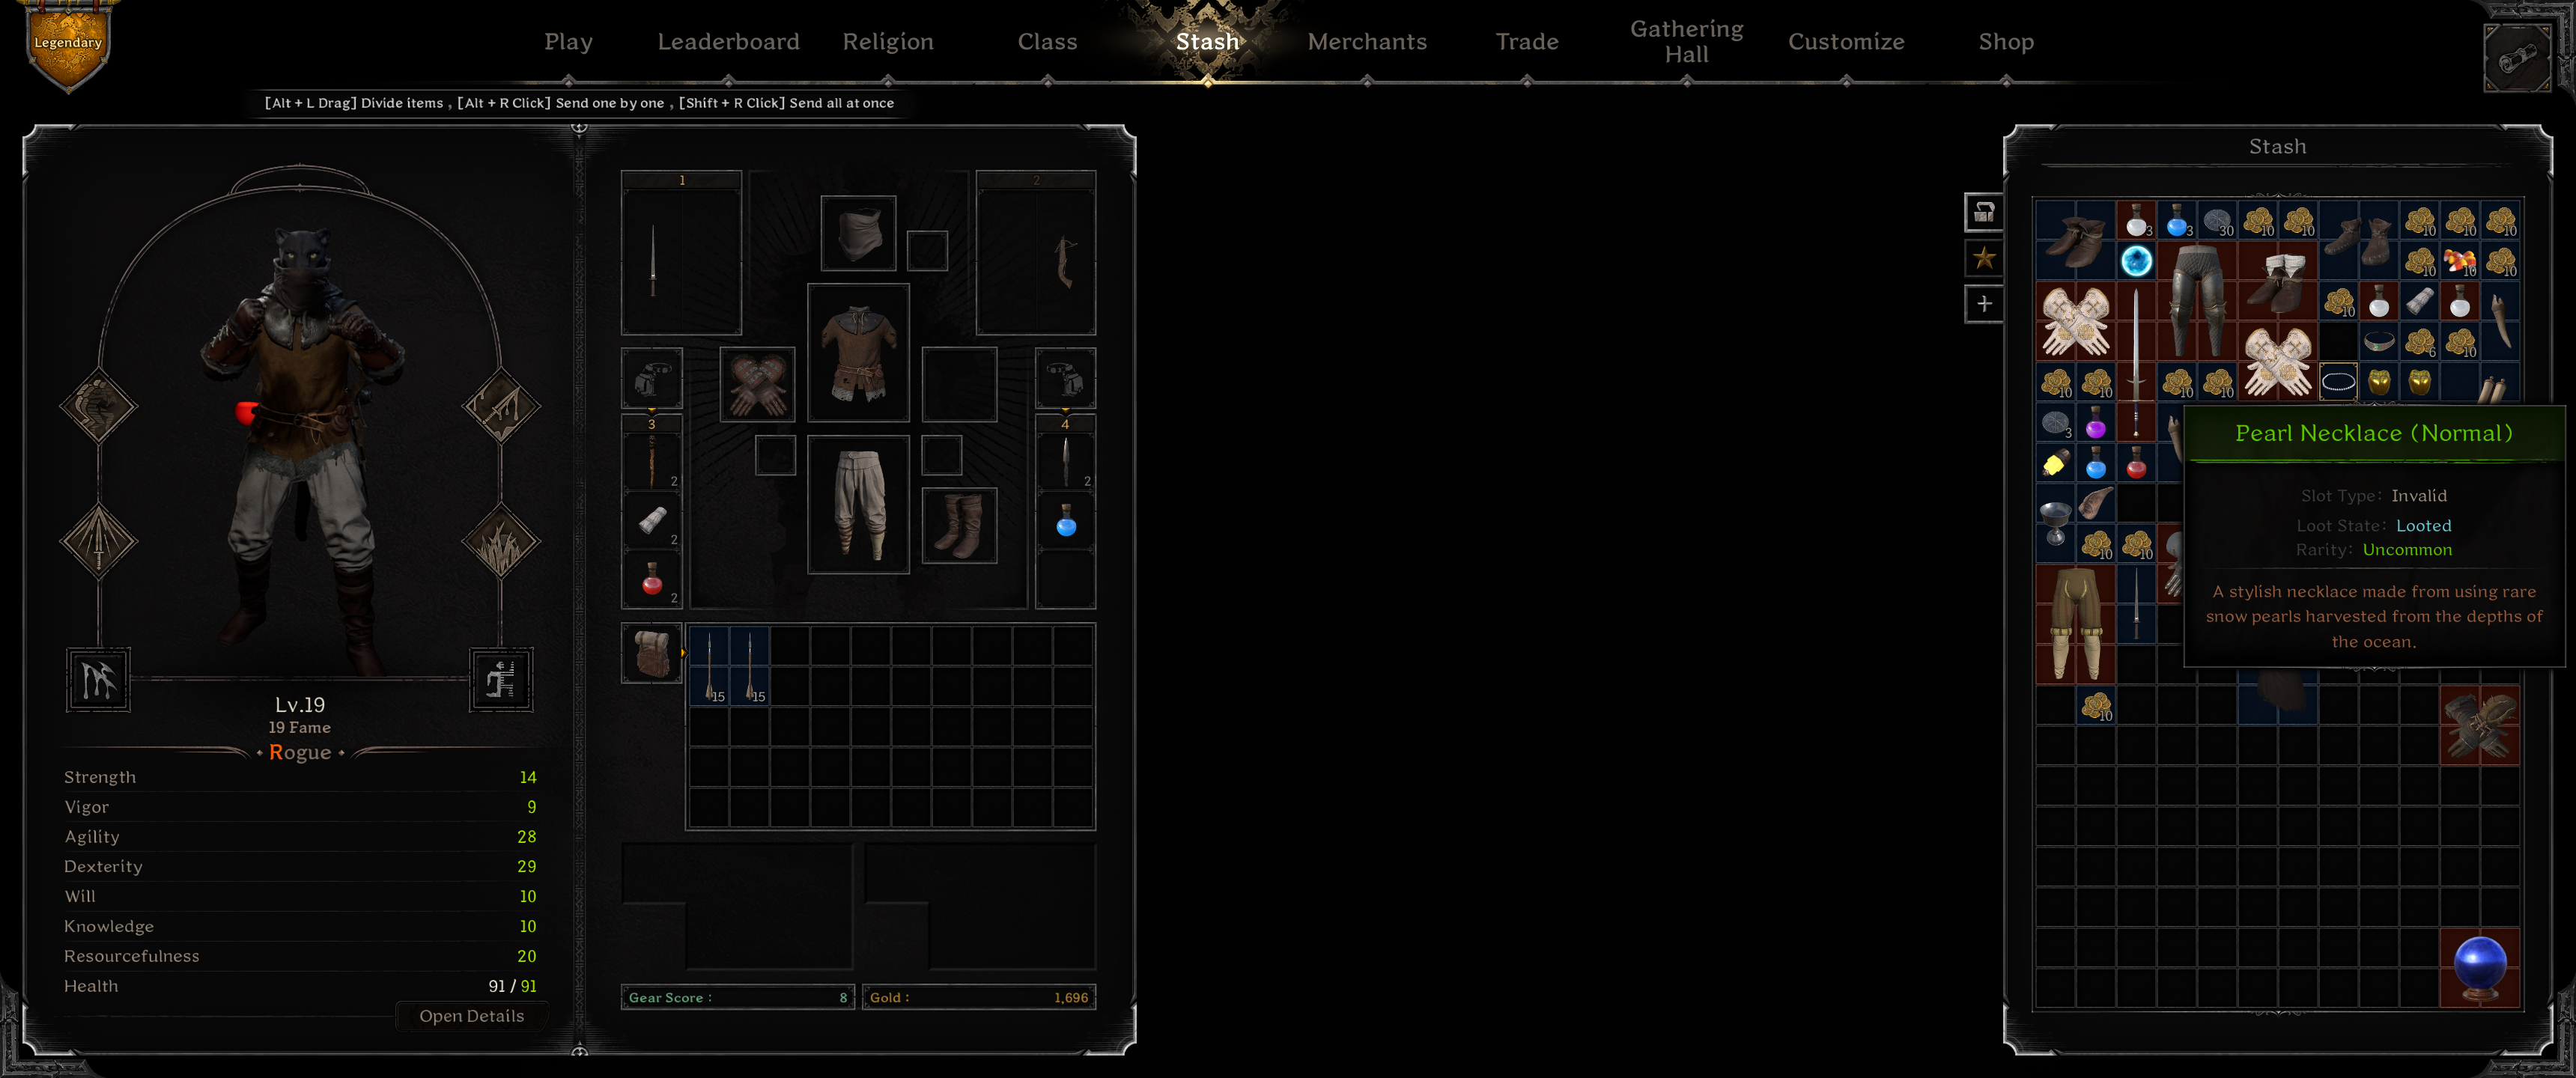Tooltip: (2182, 404, 2568, 669)
